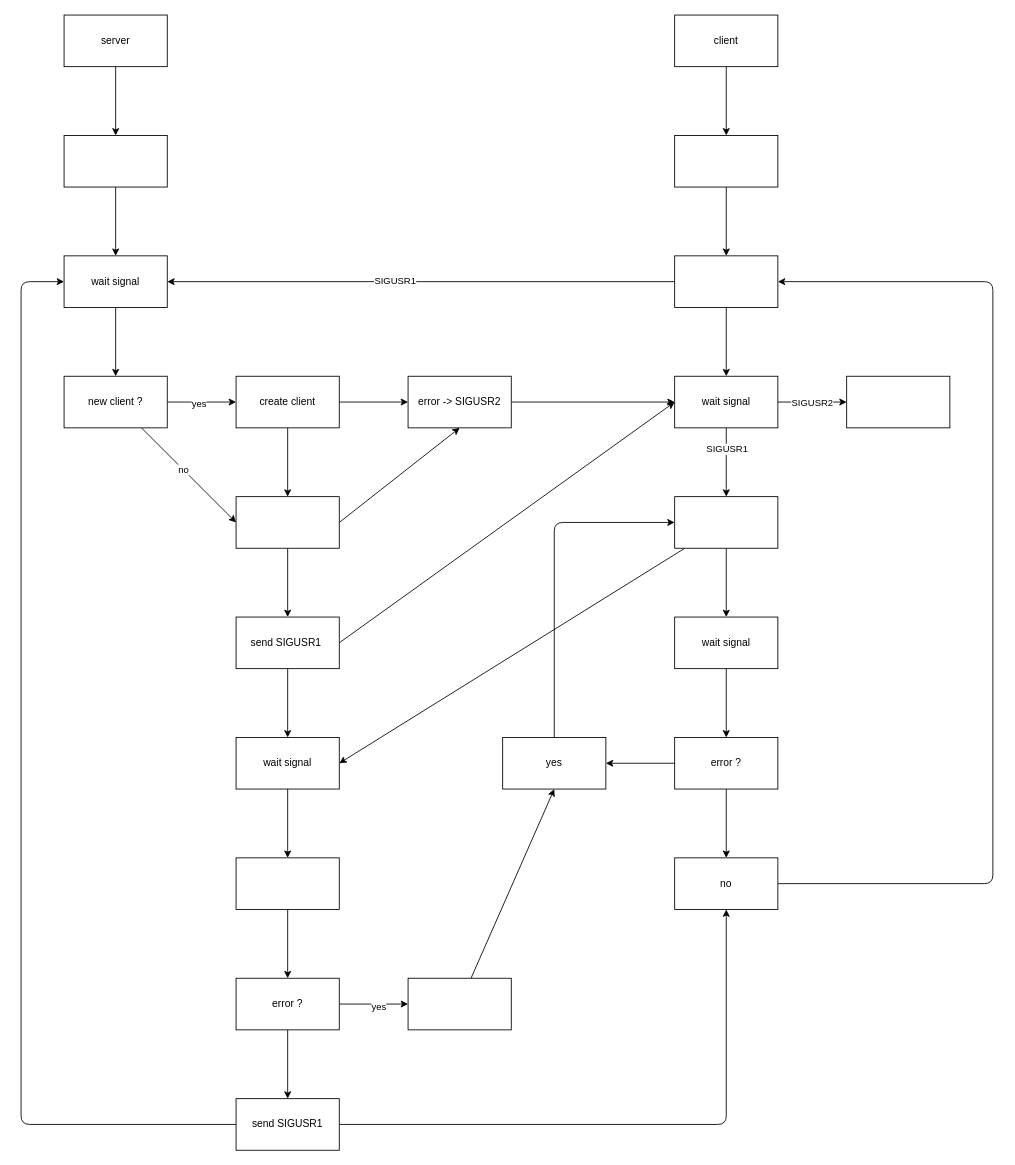
The diagram is 1015 pixels wide and 1165 high, and some of its shapes have lost their labels. Each missing label, with the centre of its shape:
EXIT: point 898,401
get 8 + 1 bit: point 287,883
get string: point 287,522
register to server: point 726,281
send char: point 726,522
send SIGUSR2: point 459,1003
setup siganl: point 726,161
setup signal: point 115,161
